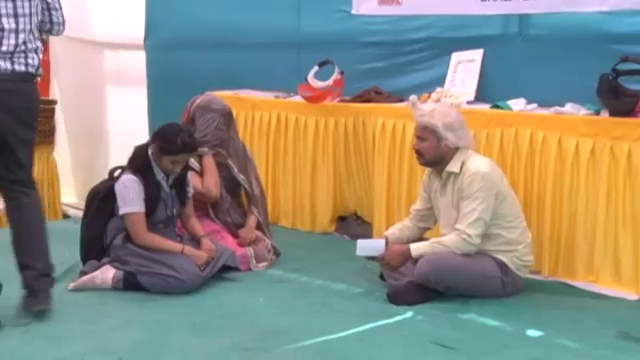helmet_off: (401, 106, 476, 179), (180, 96, 240, 157), (146, 119, 194, 186)
person: (369, 103, 551, 308), (72, 119, 219, 303), (0, 2, 64, 331), (162, 91, 275, 271)
